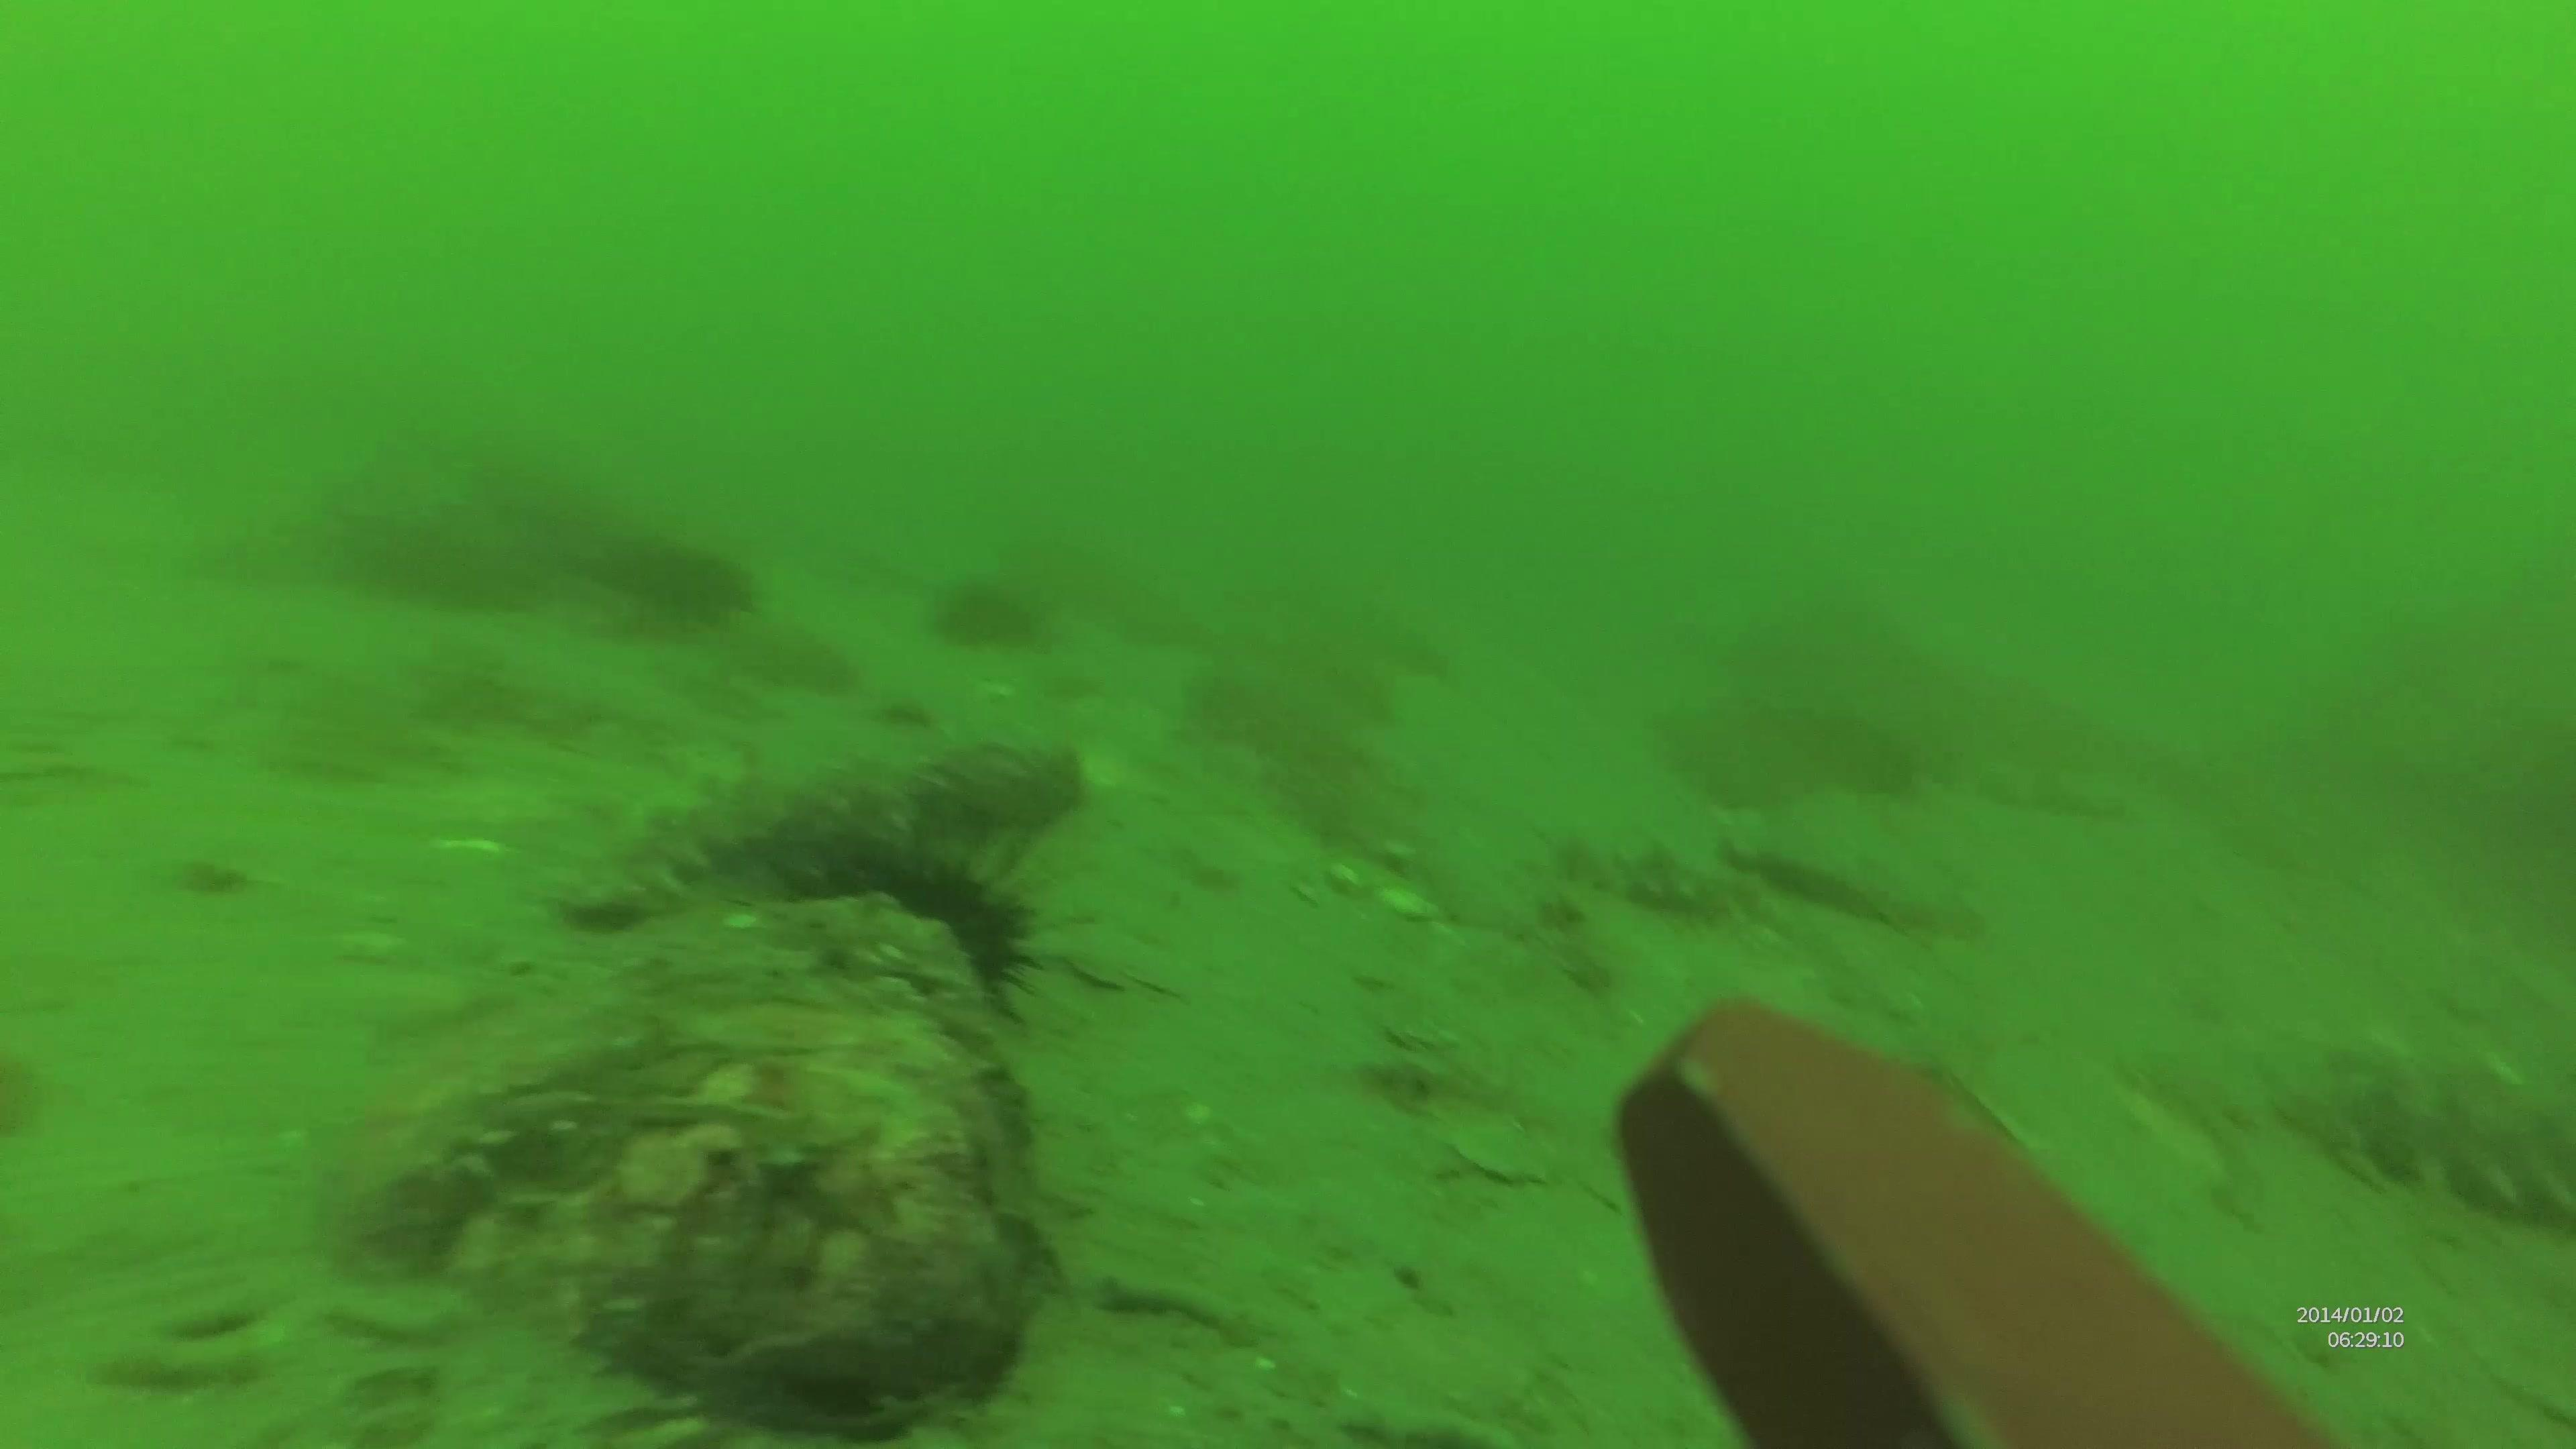echinus: (771, 819, 1042, 1017)
holothurian: (570, 722, 1088, 938), (2314, 1040, 2576, 1251), (1546, 819, 1767, 938)
